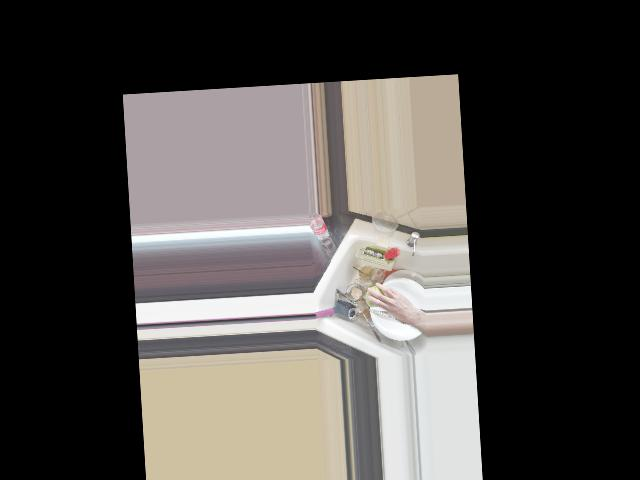apple: (365, 285, 388, 309)
